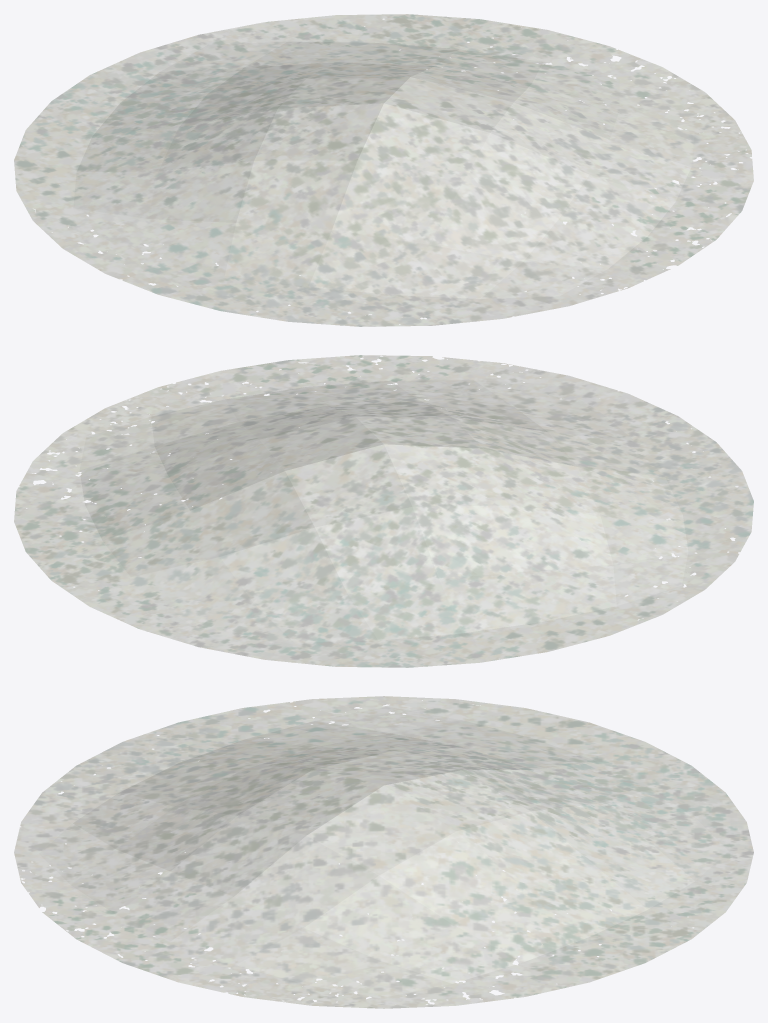
File: powder_Flower.fbx
The picture shows the model from 3 angles, top to bottom: view 1: azimuth 30°, elevation 25°; view 2: azimuth 150°, elevation 25°; view 3: azimuth 270°, elevation 25°; orthographic projection.
Visible parts, largest first — view 1: Circle.003; view 2: Circle.003; view 3: Circle.003.
Boxes of the visible parts, left/top/right/bottom form: Circle.003: left=14, top=14, right=753, bottom=326; Circle.003: left=14, top=355, right=753, bottom=667; Circle.003: left=14, top=696, right=753, bottom=1008.
Bounding box in the file's own units: 30.5 × 3.05 × 30.5.
Materials: 1 (1 with a texture image).
